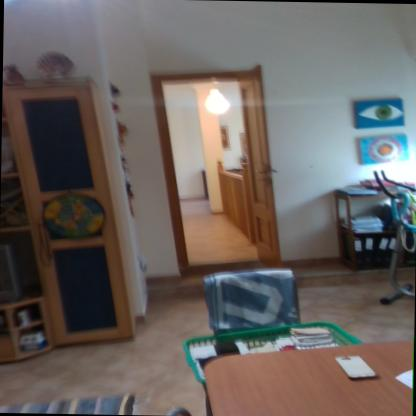open: (141, 62, 269, 274)
